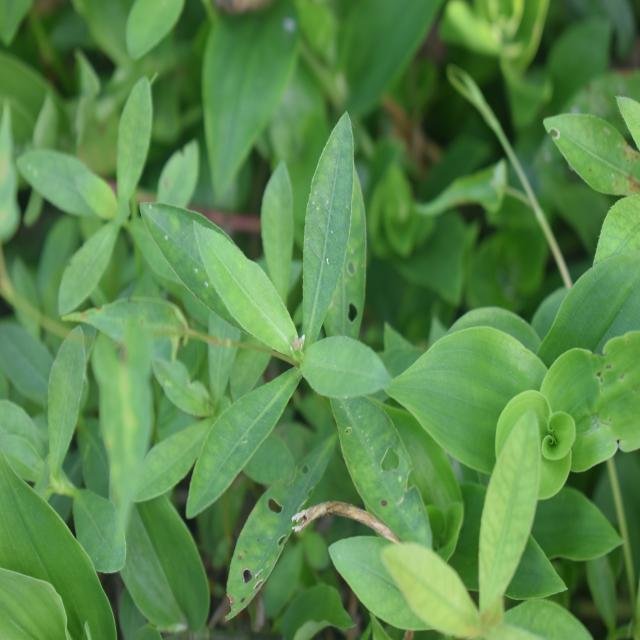Alligatorweed: (171, 174, 373, 492)
